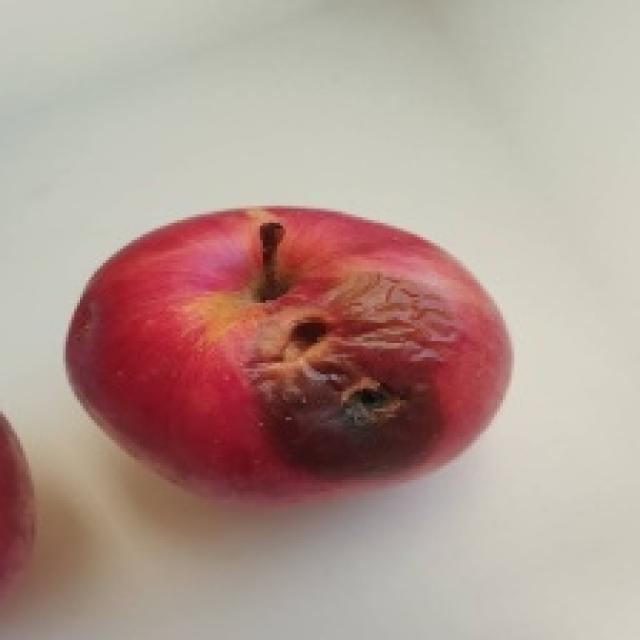rotten_apple: (82, 211, 509, 495)
